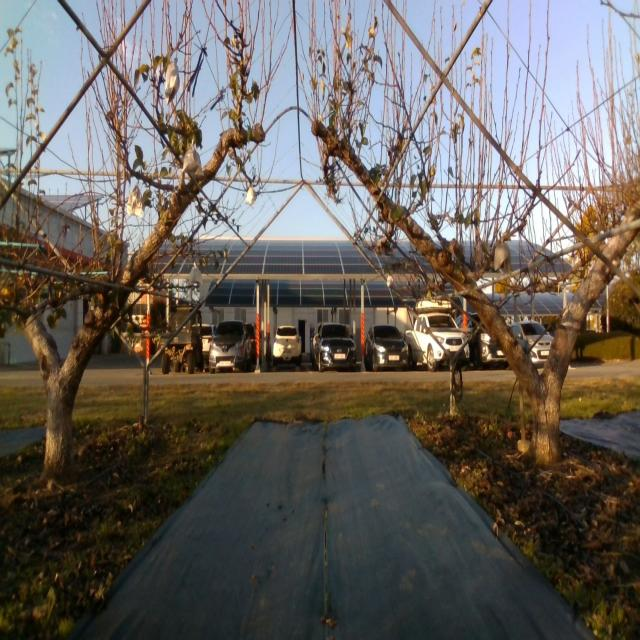pearbags: (182, 147, 204, 177), (165, 63, 179, 105), (494, 243, 511, 274), (128, 186, 144, 215), (189, 266, 203, 284), (246, 187, 256, 204)
